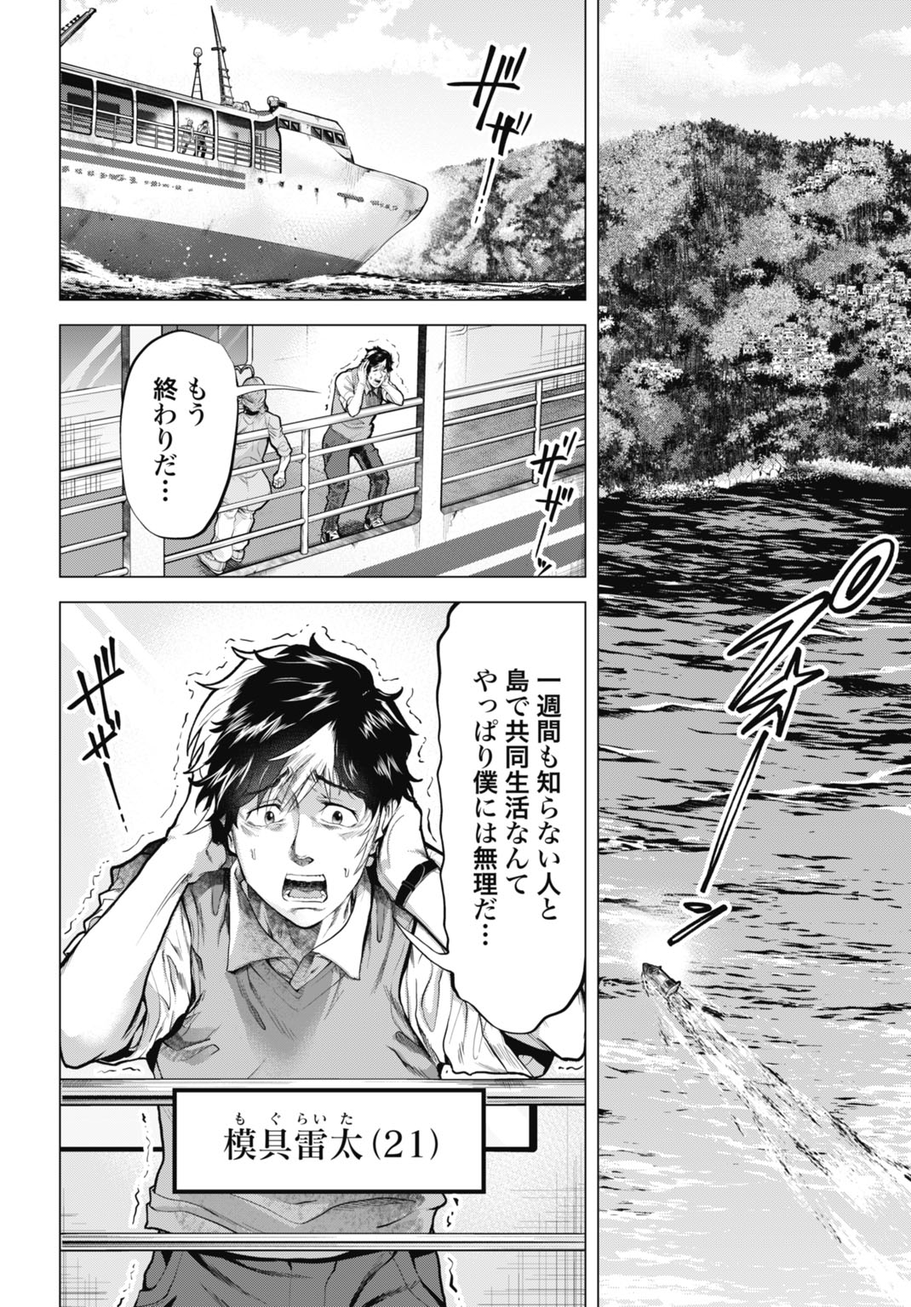bubbles: (432, 601, 587, 1047), (166, 1084, 494, 1202), (118, 329, 246, 542)
